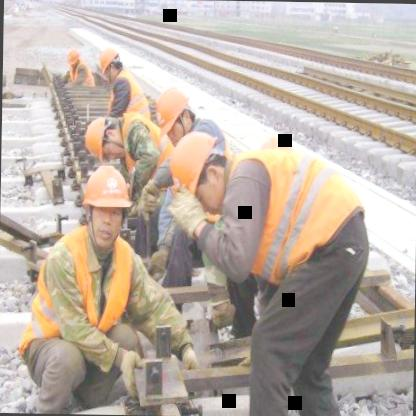helmet: (165, 130, 236, 212), (76, 160, 134, 252), (152, 83, 196, 149), (86, 114, 120, 168), (98, 48, 120, 80), (66, 47, 80, 72)
